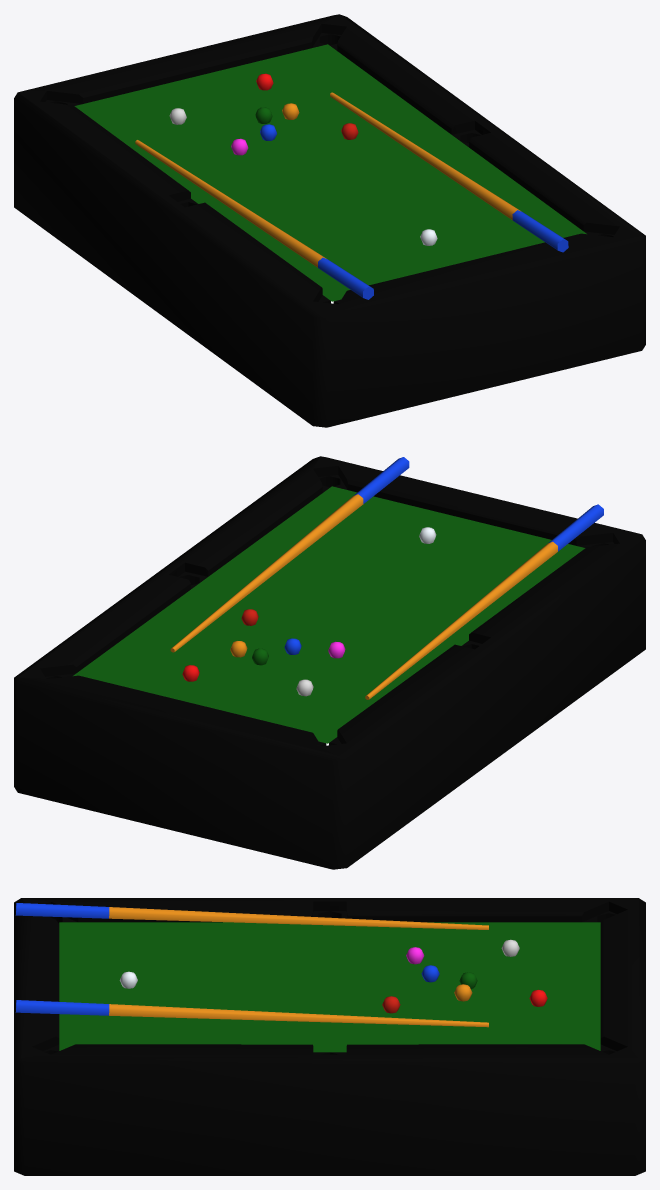
The model's file is ban bida.FBX.
3 views of the same model, one above another, from view 1: azimuth 30°, elevation 25°; view 2: azimuth 150°, elevation 25°; view 3: azimuth 270°, elevation 25° (orthographic). The views are drawn at different scales.
Visible parts, largest first — view 1: Object260; view 2: Object260; view 3: Object260.
Boxes of the visible parts, x1=… form: Object260: x1=14, y1=14, x2=645, y2=427; Object260: x1=14, y1=456, x2=645, y2=869; Object260: x1=14, y1=898, x2=645, y2=1175.
Bounding box in the file's own units: 4.4 × 1.63 × 7.06.
